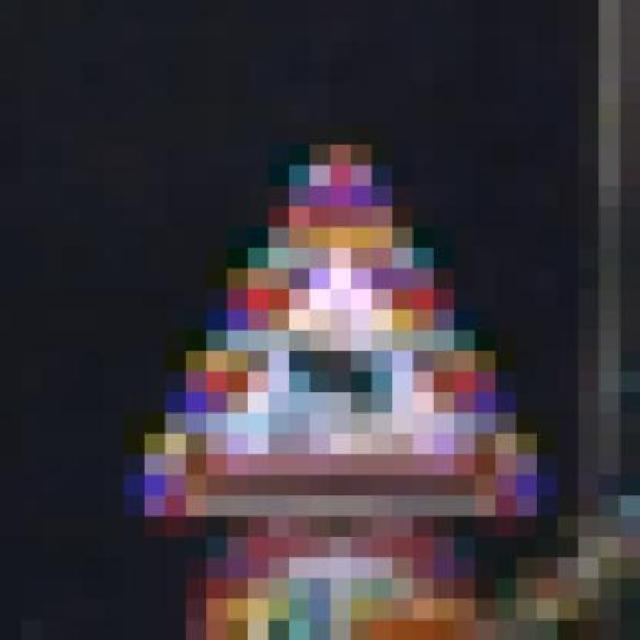Slippery Road Ahead: (124, 144, 558, 516)
